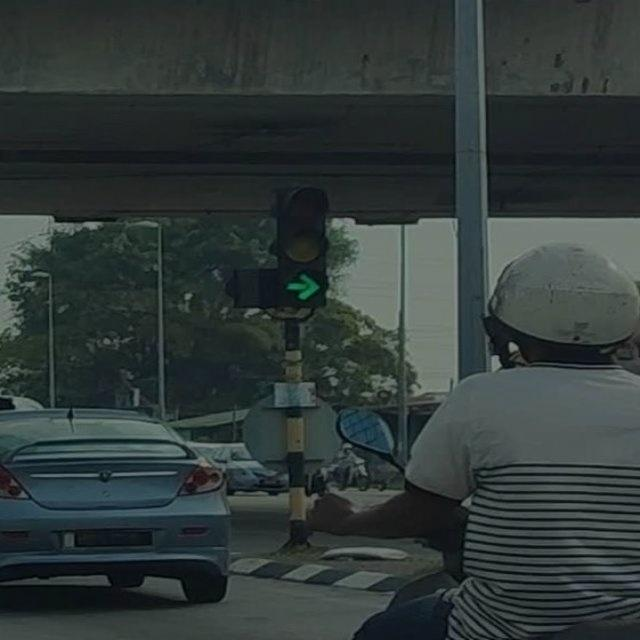Green: (276, 186, 330, 310)
